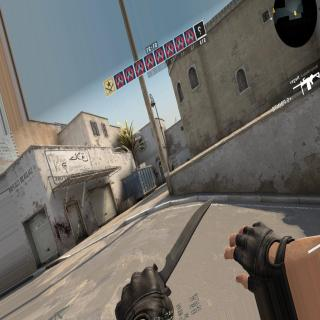CT-Body: (171, 164, 174, 171)
CT-Head: (172, 165, 174, 167)
